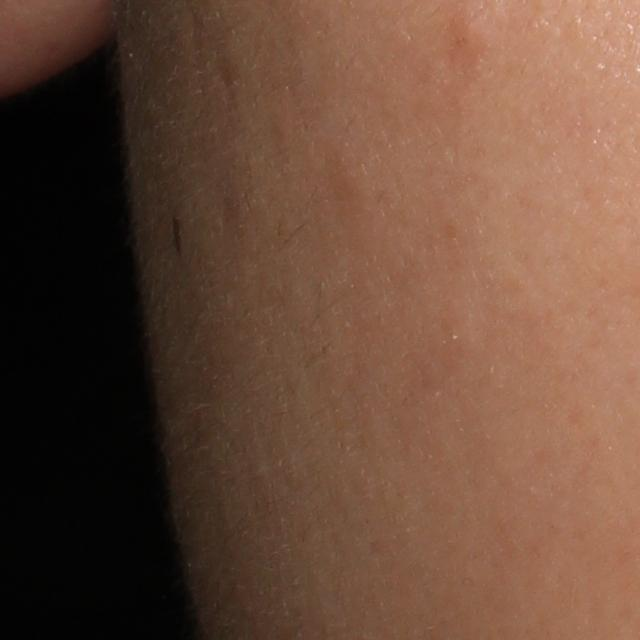comedo: (448, 12, 486, 57)
nevus: (167, 211, 187, 259)
